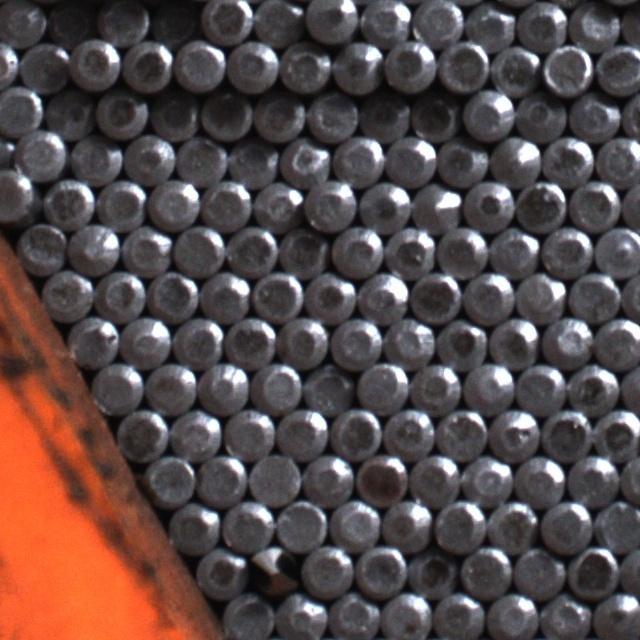tool: (539, 404, 594, 460), (355, 450, 411, 504), (247, 450, 301, 504), (330, 224, 384, 278), (220, 499, 274, 553), (540, 132, 596, 184), (144, 359, 197, 413), (274, 497, 328, 550), (223, 225, 277, 278), (250, 268, 303, 322), (382, 38, 435, 92), (380, 495, 433, 549), (172, 223, 225, 276), (329, 405, 382, 458), (303, 270, 356, 323), (303, 177, 356, 230), (172, 314, 225, 367), (197, 360, 250, 413), (195, 452, 247, 506), (276, 406, 328, 460), (226, 38, 278, 92), (122, 40, 174, 93), (223, 407, 275, 460), (358, 178, 411, 230), (225, 314, 277, 367), (200, 87, 252, 140), (276, 226, 329, 278), (166, 501, 218, 554), (118, 406, 170, 459), (192, 546, 244, 599), (222, 589, 276, 640), (354, 544, 406, 596), (567, 270, 619, 322), (94, 269, 146, 321), (516, 178, 568, 230), (302, 454, 354, 506), (42, 176, 94, 228), (170, 408, 222, 460), (147, 268, 199, 320), (68, 221, 120, 273), (198, 178, 250, 230), (250, 177, 302, 229), (174, 132, 226, 184), (301, 543, 353, 595), (64, 314, 116, 366), (436, 316, 488, 368), (174, 39, 225, 92), (329, 497, 380, 550), (488, 134, 541, 185), (485, 499, 536, 552), (410, 268, 461, 321), (16, 220, 67, 273), (565, 361, 618, 412), (540, 499, 590, 553), (462, 270, 512, 324), (566, 452, 616, 506), (252, 543, 302, 597), (120, 224, 171, 276), (462, 87, 513, 139), (542, 43, 594, 94), (459, 545, 511, 596), (436, 406, 487, 458), (568, 178, 619, 230), (356, 360, 408, 411), (253, 91, 305, 142), (148, 176, 199, 228), (96, 86, 147, 138), (383, 406, 434, 458), (513, 453, 564, 505), (70, 133, 122, 184), (120, 314, 171, 366), (488, 407, 539, 459), (199, 270, 250, 322), (18, 42, 70, 93), (40, 268, 91, 320), (89, 360, 140, 412), (488, 315, 539, 367), (17, 128, 68, 180), (226, 136, 278, 187), (145, 452, 196, 504), (566, 545, 616, 598), (358, 269, 408, 322), (123, 132, 174, 183), (513, 546, 564, 597), (463, 179, 514, 230), (303, 361, 354, 412), (330, 315, 380, 367), (95, 178, 145, 230), (280, 42, 330, 94), (462, 360, 514, 410), (540, 224, 590, 276), (331, 134, 383, 184), (278, 314, 328, 366), (70, 38, 120, 90), (434, 498, 484, 550), (306, 90, 357, 140), (149, 90, 200, 140), (252, 360, 302, 411), (380, 590, 431, 640), (409, 361, 460, 411), (543, 315, 593, 366), (439, 40, 489, 91), (568, 0, 618, 51), (328, 590, 379, 640), (410, 92, 460, 143), (45, 88, 95, 139), (384, 314, 435, 364), (411, 452, 462, 502), (332, 42, 381, 94), (593, 404, 640, 458), (514, 362, 564, 412), (433, 590, 483, 640), (515, 270, 565, 320), (515, 91, 565, 141), (515, 0, 565, 50), (490, 42, 540, 92), (436, 137, 486, 187), (412, 181, 462, 231), (388, 225, 438, 275), (361, 90, 411, 140), (462, 453, 511, 504), (489, 225, 538, 276), (278, 135, 329, 184), (407, 548, 458, 597), (594, 498, 640, 552), (569, 91, 619, 140), (385, 135, 435, 184), (465, 1, 514, 51), (486, 591, 536, 640), (276, 591, 326, 640), (539, 592, 590, 640), (148, 0, 199, 48), (595, 43, 640, 97), (440, 226, 489, 275), (591, 591, 640, 640), (45, 0, 96, 47), (594, 224, 640, 276), (252, 0, 304, 46), (593, 317, 640, 367), (98, 0, 148, 47), (595, 132, 640, 184), (359, 0, 410, 45), (304, 0, 358, 42), (414, 0, 464, 45), (200, 0, 252, 43), (0, 0, 46, 47), (0, 84, 41, 134), (0, 167, 33, 222)
